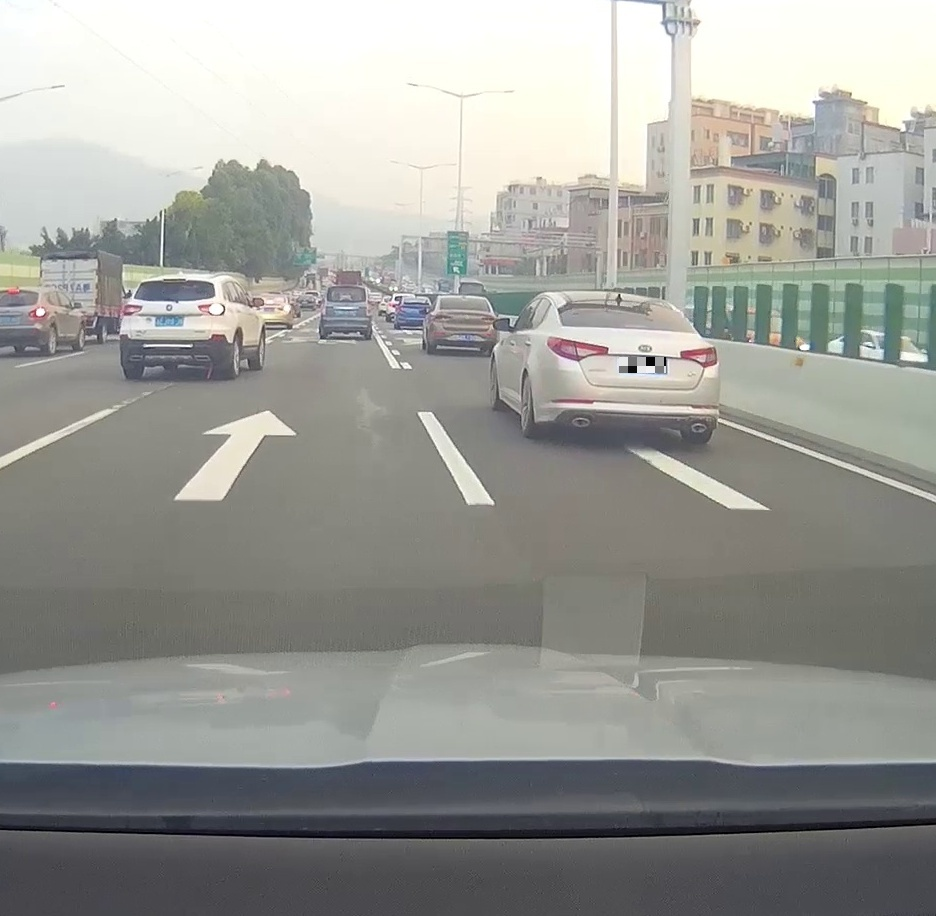L_light: (547, 336, 609, 361), (121, 305, 142, 315), (434, 314, 452, 319)
R_light: (680, 345, 718, 367), (198, 303, 225, 316), (481, 316, 495, 320)
T_light: (624, 323, 647, 328), (163, 278, 187, 282), (459, 298, 469, 300)
day-no: (545, 295, 721, 443), (429, 295, 500, 355)
day-right: (117, 275, 230, 379)
plate_1: (619, 357, 666, 373)
